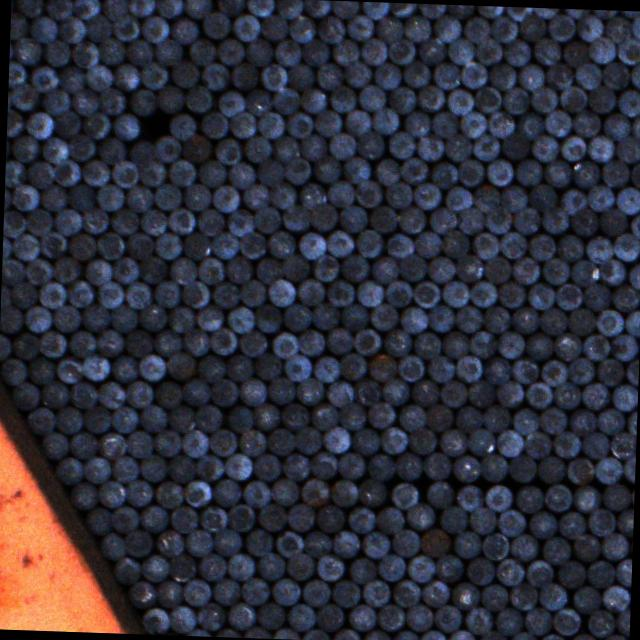tool: (420, 527, 450, 556), (195, 402, 223, 432), (539, 581, 568, 609), (421, 578, 450, 606), (338, 203, 367, 231), (373, 505, 402, 533), (140, 61, 168, 90), (254, 303, 282, 332), (95, 230, 124, 258), (266, 276, 294, 305), (257, 502, 286, 530), (66, 278, 94, 307), (570, 208, 598, 237), (166, 351, 195, 379), (212, 478, 240, 507), (95, 432, 124, 460), (180, 135, 209, 163), (154, 479, 183, 507), (195, 353, 224, 381), (300, 477, 328, 506), (499, 132, 528, 160), (195, 600, 222, 630), (384, 326, 411, 356), (96, 378, 123, 408), (225, 254, 252, 284), (26, 110, 54, 138), (314, 554, 342, 582), (241, 578, 269, 606), (479, 453, 507, 481), (226, 552, 254, 580), (154, 232, 182, 260), (434, 604, 462, 632), (538, 456, 566, 484), (586, 184, 614, 212), (502, 38, 530, 66), (167, 158, 195, 186), (267, 376, 295, 404), (167, 206, 195, 234), (310, 252, 338, 280), (226, 504, 254, 532), (524, 606, 552, 634), (454, 253, 482, 281), (391, 528, 419, 556), (572, 108, 600, 136), (39, 330, 67, 358), (412, 280, 440, 308), (140, 554, 168, 582), (314, 503, 342, 531), (538, 308, 566, 336), (558, 560, 586, 588), (52, 303, 80, 331), (182, 578, 210, 606), (375, 602, 403, 630), (552, 607, 580, 635), (584, 234, 612, 262), (316, 602, 344, 630), (352, 228, 380, 256), (508, 580, 536, 608), (407, 427, 435, 455), (210, 184, 238, 212), (406, 554, 434, 582), (123, 530, 151, 558), (558, 85, 586, 113), (595, 358, 623, 386), (470, 505, 498, 533), (139, 454, 167, 482), (444, 134, 472, 162), (487, 110, 515, 138), (110, 504, 138, 532), (588, 84, 616, 112), (467, 428, 495, 456), (168, 504, 196, 532), (566, 356, 594, 384), (286, 502, 314, 530), (209, 428, 237, 456), (538, 405, 566, 433), (253, 451, 281, 479), (22, 304, 50, 332), (426, 254, 454, 282), (356, 479, 384, 507), (294, 278, 322, 306), (570, 258, 598, 286), (300, 38, 328, 66), (170, 17, 198, 45), (94, 184, 122, 212), (266, 230, 294, 258), (252, 403, 280, 431), (298, 232, 326, 260), (82, 404, 110, 432), (361, 578, 389, 606), (558, 510, 586, 538), (422, 452, 450, 480), (282, 452, 310, 480), (587, 134, 615, 162), (610, 332, 638, 360), (25, 406, 53, 434), (167, 257, 195, 285), (182, 528, 210, 556), (600, 160, 628, 188), (182, 279, 210, 307), (474, 86, 502, 114), (286, 602, 314, 630), (110, 112, 138, 140), (412, 180, 440, 208), (300, 580, 328, 608), (498, 508, 526, 536), (387, 86, 415, 114), (242, 480, 270, 508), (586, 560, 614, 588), (244, 38, 272, 66), (232, 12, 260, 40), (280, 403, 308, 431), (514, 158, 542, 186), (530, 510, 558, 538), (266, 428, 294, 456), (432, 12, 460, 40), (354, 178, 382, 206), (340, 252, 368, 280), (209, 230, 237, 258), (548, 12, 576, 40), (345, 506, 373, 534), (153, 182, 181, 210), (140, 504, 168, 532), (286, 14, 314, 42), (281, 252, 309, 280), (586, 506, 614, 534), (316, 14, 344, 42), (36, 280, 64, 308), (330, 480, 358, 508), (180, 232, 208, 260), (527, 183, 555, 211), (412, 331, 440, 359), (226, 600, 254, 628), (342, 156, 370, 184), (355, 130, 383, 158), (80, 304, 108, 332), (123, 328, 151, 356), (82, 158, 110, 186), (552, 333, 580, 361), (140, 404, 168, 432), (181, 376, 209, 404), (238, 277, 266, 305), (67, 231, 95, 259), (227, 304, 255, 332), (401, 157, 429, 185), (54, 208, 82, 236), (326, 278, 354, 306), (256, 552, 284, 580), (466, 556, 494, 584), (595, 308, 623, 336), (70, 481, 98, 509), (238, 376, 266, 404), (110, 302, 138, 330), (200, 62, 228, 90), (153, 328, 181, 356), (599, 208, 627, 236), (96, 280, 124, 308), (368, 353, 396, 381), (572, 533, 600, 561), (111, 206, 139, 234), (11, 330, 39, 358), (156, 84, 184, 112), (98, 136, 126, 164), (12, 234, 40, 262), (544, 62, 572, 90), (68, 381, 96, 409), (166, 404, 194, 432), (137, 305, 165, 333), (138, 255, 166, 283), (128, 88, 156, 116), (350, 428, 378, 456), (140, 14, 168, 42), (440, 504, 468, 532), (154, 380, 182, 408), (270, 330, 298, 358), (124, 378, 152, 406), (41, 380, 69, 408), (602, 112, 630, 140), (24, 256, 52, 284), (26, 356, 54, 384), (67, 330, 95, 358), (604, 15, 632, 43), (498, 182, 526, 210), (66, 183, 94, 211), (568, 406, 596, 434), (108, 354, 136, 382), (273, 528, 301, 556), (166, 454, 193, 483), (467, 379, 494, 408), (209, 281, 238, 308), (513, 207, 540, 235), (397, 252, 424, 280), (580, 334, 608, 361), (139, 352, 167, 379), (395, 452, 422, 480), (512, 256, 540, 283), (198, 553, 225, 581), (377, 554, 404, 582), (611, 382, 638, 410), (542, 536, 569, 564), (213, 527, 240, 555), (181, 182, 208, 210), (588, 36, 616, 63), (454, 354, 481, 382), (368, 205, 396, 232), (598, 258, 626, 285), (379, 426, 406, 454), (111, 62, 138, 90), (399, 306, 426, 334), (281, 204, 309, 231), (407, 501, 435, 528), (453, 305, 480, 333), (495, 606, 522, 634), (323, 424, 350, 452), (595, 456, 622, 484), (208, 327, 235, 355), (154, 430, 181, 458), (370, 106, 397, 134), (410, 378, 437, 406), (572, 584, 599, 612), (472, 132, 499, 160), (67, 132, 94, 160), (497, 557, 524, 585), (568, 307, 595, 335), (469, 330, 496, 358), (15, 36, 42, 64), (155, 38, 183, 65), (510, 454, 537, 482), (184, 479, 211, 507), (370, 255, 398, 282), (211, 376, 238, 404), (215, 38, 242, 66), (324, 230, 351, 258), (524, 382, 552, 409), (52, 159, 79, 187), (197, 506, 225, 533), (198, 158, 225, 186), (481, 403, 508, 431), (427, 353, 454, 381), (243, 134, 270, 162), (212, 578, 239, 606), (182, 327, 209, 355), (153, 134, 180, 162), (342, 61, 370, 88), (195, 207, 222, 235), (54, 455, 81, 483), (523, 332, 550, 360), (153, 280, 180, 308), (481, 532, 508, 560), (380, 376, 407, 404), (392, 578, 419, 606), (11, 184, 39, 211), (224, 451, 252, 478), (398, 402, 425, 430), (109, 404, 136, 432), (58, 15, 86, 42), (527, 560, 554, 588), (352, 328, 379, 356), (572, 159, 599, 187), (359, 36, 386, 64), (238, 330, 266, 357), (510, 532, 537, 560), (112, 12, 139, 40), (238, 230, 265, 258), (404, 603, 431, 631), (282, 157, 309, 185), (439, 428, 466, 456), (282, 304, 309, 332), (270, 577, 298, 604), (577, 13, 604, 41), (354, 279, 382, 306), (523, 431, 550, 459), (453, 580, 480, 608), (24, 207, 52, 234), (237, 428, 264, 456), (126, 431, 153, 459), (309, 301, 336, 329), (183, 84, 210, 112), (180, 428, 207, 456), (603, 482, 631, 509), (328, 132, 356, 159), (417, 36, 444, 64), (287, 552, 314, 580), (432, 554, 460, 581), (96, 480, 123, 508), (329, 84, 356, 112), (137, 157, 164, 185), (555, 282, 582, 310), (309, 402, 336, 430), (83, 456, 110, 484), (470, 230, 497, 258), (602, 583, 630, 610), (226, 161, 253, 189), (441, 330, 468, 358), (272, 135, 299, 163), (68, 431, 96, 458), (337, 400, 364, 428), (596, 406, 623, 434), (96, 328, 123, 356), (309, 202, 336, 230), (496, 379, 524, 406), (168, 554, 195, 582), (429, 206, 457, 233), (313, 108, 340, 136), (336, 451, 364, 478), (111, 454, 138, 482), (441, 230, 468, 258), (54, 404, 81, 432), (526, 282, 554, 309), (370, 303, 398, 330), (84, 257, 112, 284), (225, 352, 252, 380), (39, 184, 66, 212), (332, 580, 359, 608), (283, 352, 310, 380), (431, 62, 459, 89), (516, 484, 543, 512), (54, 109, 81, 137), (254, 351, 282, 378), (98, 86, 125, 114), (584, 283, 612, 310), (601, 531, 628, 559), (202, 9, 229, 37), (125, 280, 152, 308), (532, 36, 559, 64), (197, 257, 224, 285), (125, 478, 152, 506), (38, 231, 66, 258), (366, 452, 394, 479), (484, 256, 511, 284), (58, 66, 85, 94), (169, 111, 196, 139), (484, 484, 512, 511), (125, 232, 153, 259), (312, 156, 340, 183), (125, 184, 152, 212), (308, 451, 336, 478), (170, 60, 198, 87), (482, 356, 509, 384), (474, 182, 501, 210), (504, 86, 530, 115), (614, 232, 640, 261), (540, 257, 567, 284), (345, 14, 372, 41), (600, 61, 627, 88), (404, 13, 431, 40), (383, 279, 410, 306), (357, 85, 384, 112), (398, 206, 425, 233), (374, 62, 401, 89), (11, 381, 38, 408), (543, 109, 570, 136), (439, 379, 466, 406), (459, 110, 486, 137), (385, 180, 412, 207), (126, 37, 153, 64), (490, 15, 517, 42), (488, 62, 515, 89), (229, 62, 256, 89), (484, 207, 511, 234), (401, 61, 428, 88), (526, 234, 553, 261), (476, 37, 503, 64), (448, 37, 475, 64), (225, 208, 252, 235), (375, 15, 402, 42), (498, 280, 525, 307), (430, 109, 457, 136), (347, 602, 374, 629), (330, 39, 357, 66), (256, 601, 283, 628), (453, 404, 480, 431), (255, 160, 282, 187), (196, 454, 223, 481), (138, 208, 165, 235), (27, 160, 54, 187), (529, 85, 556, 112), (542, 206, 569, 233), (201, 111, 228, 138), (166, 305, 193, 332), (82, 354, 109, 381), (343, 108, 370, 135), (215, 90, 242, 117), (325, 379, 352, 406), (455, 484, 482, 511), (581, 432, 608, 459), (196, 304, 223, 331), (213, 138, 240, 165), (53, 257, 80, 284), (55, 355, 82, 382), (44, 87, 71, 114), (559, 186, 586, 213), (328, 180, 354, 208), (510, 306, 538, 332), (574, 62, 602, 88), (274, 38, 300, 66), (272, 86, 298, 114), (258, 111, 284, 139), (486, 156, 512, 184), (426, 403, 452, 431), (426, 304, 452, 332), (496, 329, 522, 357), (296, 376, 322, 404), (258, 64, 286, 90), (252, 204, 278, 232), (270, 477, 296, 505), (262, 14, 288, 42), (362, 530, 388, 558), (338, 351, 364, 379), (388, 131, 414, 159), (610, 431, 636, 459), (168, 605, 194, 633), (456, 530, 482, 558), (154, 580, 180, 608), (558, 134, 584, 162), (40, 136, 68, 162), (98, 37, 124, 65), (498, 430, 524, 458), (482, 306, 508, 334), (110, 159, 136, 187), (42, 431, 68, 459), (544, 484, 570, 512), (12, 135, 38, 163), (295, 424, 321, 452), (112, 257, 138, 285), (270, 182, 296, 210), (366, 402, 394, 428), (530, 134, 556, 162), (383, 233, 411, 259), (588, 609, 614, 637), (520, 12, 546, 40), (348, 557, 376, 583), (540, 358, 566, 386), (516, 64, 544, 90), (156, 528, 182, 556), (85, 506, 111, 534), (339, 304, 367, 330), (510, 357, 538, 383), (84, 12, 110, 40), (188, 36, 214, 64), (316, 62, 342, 90), (12, 82, 38, 110), (226, 404, 252, 432), (32, 15, 58, 42), (441, 280, 468, 306), (469, 280, 496, 306), (556, 233, 582, 260), (452, 454, 478, 481), (284, 110, 310, 137), (230, 111, 256, 138), (552, 431, 578, 458), (332, 530, 358, 557), (582, 382, 608, 409), (72, 88, 98, 115), (387, 37, 414, 63), (568, 457, 594, 484), (84, 112, 110, 139), (286, 62, 312, 89), (71, 40, 98, 66), (82, 208, 108, 235), (500, 230, 527, 256), (326, 326, 352, 353), (553, 382, 579, 409), (545, 160, 571, 187), (302, 530, 329, 556), (42, 38, 68, 65), (391, 482, 418, 508), (128, 580, 154, 607), (299, 134, 326, 160), (459, 62, 486, 88), (298, 182, 325, 208), (84, 64, 111, 90), (462, 14, 488, 41), (98, 532, 124, 559), (445, 185, 472, 211), (352, 377, 378, 404), (31, 66, 58, 92), (245, 528, 272, 554), (512, 407, 538, 434), (413, 231, 439, 258), (245, 88, 271, 115), (312, 354, 338, 381), (614, 284, 640, 311), (467, 606, 492, 634), (398, 353, 423, 381), (615, 135, 640, 163), (374, 158, 399, 186), (418, 84, 444, 110), (298, 328, 324, 354), (142, 608, 168, 634), (516, 112, 542, 138), (300, 86, 326, 112), (404, 110, 430, 136), (432, 163, 458, 189), (9, 280, 35, 306), (114, 556, 140, 582), (574, 486, 600, 512), (242, 182, 268, 208), (428, 482, 454, 508), (481, 582, 506, 609), (458, 158, 483, 185), (418, 134, 443, 161), (457, 206, 482, 233), (447, 88, 472, 115), (0, 354, 24, 382), (617, 184, 640, 213), (128, 139, 154, 164), (561, 39, 587, 64), (256, 258, 281, 284), (617, 87, 640, 115), (617, 35, 640, 63), (2, 258, 24, 286), (0, 304, 21, 333), (2, 208, 24, 235), (181, 0, 210, 18), (103, 0, 129, 20), (4, 160, 23, 187), (10, 12, 28, 40), (616, 508, 634, 536), (275, 0, 302, 18), (72, 0, 99, 18), (45, 0, 72, 18), (6, 106, 22, 136), (328, 0, 356, 17), (360, 1, 388, 18), (8, 60, 26, 86), (303, 0, 330, 17), (245, 0, 273, 16), (616, 557, 632, 585), (155, 0, 182, 16), (624, 308, 640, 335), (214, 0, 242, 15), (127, 0, 153, 16), (17, 0, 44, 15), (417, 3, 445, 17), (243, 624, 271, 638), (615, 608, 630, 634), (390, 2, 416, 16), (448, 4, 474, 18), (504, 6, 530, 20), (331, 627, 358, 640), (474, 5, 503, 17), (271, 627, 298, 639), (362, 628, 389, 640), (628, 261, 640, 288), (302, 628, 328, 640), (626, 358, 638, 384), (623, 456, 635, 482), (629, 61, 640, 89), (446, 629, 474, 640), (479, 629, 506, 640), (420, 629, 447, 640), (392, 629, 419, 640), (630, 159, 640, 188), (533, 7, 559, 18), (214, 628, 242, 638), (562, 8, 590, 18), (626, 407, 636, 435), (630, 212, 640, 239), (0, 333, 10, 360), (509, 631, 537, 640), (1, 283, 10, 309), (592, 10, 618, 19), (2, 234, 10, 262), (632, 113, 640, 140), (632, 12, 640, 39), (184, 628, 211, 636), (537, 633, 565, 640), (602, 633, 629, 640), (4, 184, 10, 212), (571, 634, 598, 640), (620, 10, 640, 17)
void: (138, 112, 170, 141)
